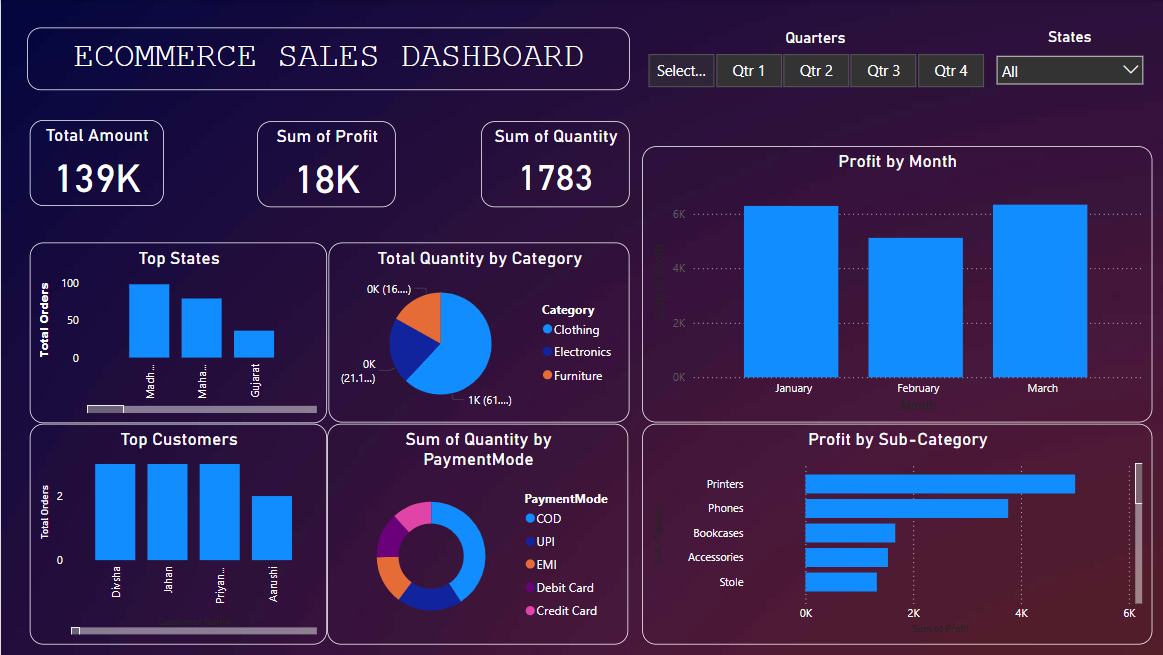

Layout of this report page (visuals, bound fields, positions):
{"tool":"powerbi","page":{"name":"Page 1","canvas":[1280,720],"ordinal":0},"visuals":[{"type":"textbox","box":[28.8,30.2,661.4,68.6],"z":0},{"type":"card","title":"Total Amount","fields":{"Values":["Sum(Details.Amount)"]},"box":[31.6,131.7,146.8,94.7],"z":1000},{"type":"card","title":"Sum of Quantity","fields":{"Values":["Sum(Details.Quantity)"]},"box":[526.9,133.1,163.3,94.7],"z":2000},{"type":"donutChart","fields":{"Y":["Sum(Details.Quantity)"],"Category":["Details.PaymentMode"]},"box":[357.8,464.7,330.7,242.3],"z":3000},{"type":"columnChart","title":"Top Customers","fields":{"Category":["Orders.Customer Name"],"Y":["Count(Details.Order ID)"]},"box":[31.4,464.7,326.4,242.3],"z":4000},{"type":"columnChart","title":"Top States","fields":{"Category":["Orders.State"],"Y":["CountNonNull(Details.Order ID)"]},"box":[31.4,266.5,326.4,198.1],"z":5000},{"type":"pieChart","title":"Total Quantity by Category","fields":{"Y":["Sum(Details.Quantity)"],"Category":["Details.Category"]},"box":[359.5,266.2,330.7,197.6],"z":6000},{"type":"clusteredColumnChart","title":"Profit by Month","fields":{"Y":["Sum(Details.Profit)"],"Category":["Orders.Order Date.Variation.Date Hierarchy.Month"]},"box":[703.9,160.5,559.9,303.3],"z":7000},{"type":"clusteredBarChart","title":"Profit by Sub-Category","fields":{"Category":["Details.Sub-Category"],"Y":["Sum(Details.Profit)"]},"box":[704,465,560,242],"z":8000},{"type":"slicer","title":"Quarters","fields":{"Values":["Orders.Order Date.Variation.Date Hierarchy.Quarter"]},"box":[690.2,31.6,407.5,65.9],"z":9000},{"type":"card","title":"Sum of Profit","fields":{"Values":["Sum(Details.Profit)"]},"box":[281.3,133.1,152.3,94.7],"z":10000},{"type":"slicer","title":"States","fields":{"Values":["Orders.State"]},"box":[1082.7,30.2,181.1,72.7],"z":11000}]}

Visuals, with their boxes in screenshot pixels (x1, y1, x2, y2), scaled from the page's 1280x720 canvas onto the 1163x655 screenshot:
textbox: box=[26, 27, 627, 90]
"Total Amount" card: box=[29, 120, 162, 206]
"Sum of Quantity" card: box=[479, 121, 627, 207]
donutChart - Sum(Details.Quantity) x Details.PaymentMode: box=[325, 423, 626, 643]
"Top Customers" columnChart: box=[29, 423, 325, 643]
"Top States" columnChart: box=[29, 242, 325, 423]
"Total Quantity by Category" pieChart: box=[327, 242, 627, 422]
"Profit by Month" clusteredColumnChart: box=[640, 146, 1148, 422]
"Profit by Sub-Category" clusteredBarChart: box=[640, 423, 1148, 643]
"Quarters" slicer: box=[627, 29, 997, 89]
"Sum of Profit" card: box=[256, 121, 394, 207]
"States" slicer: box=[984, 27, 1148, 94]
